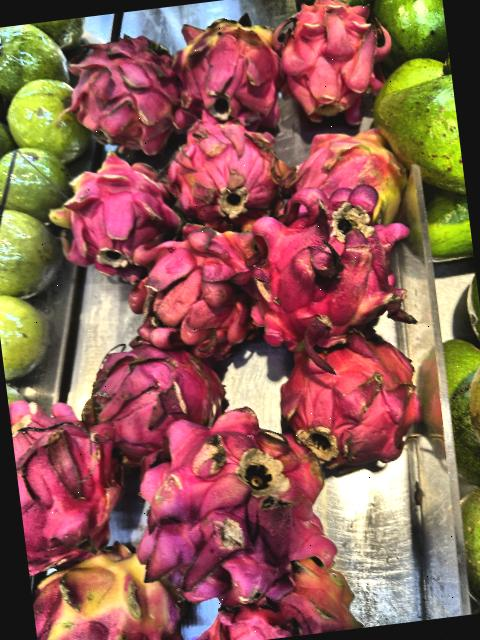buah-naga-belum-matang: (43, 146, 191, 278), (276, 112, 421, 243), (26, 528, 189, 640), (184, 9, 296, 133)
buah-naga-matang: (127, 397, 341, 601), (248, 192, 428, 360), (268, 320, 431, 480), (63, 327, 229, 469), (7, 372, 126, 565), (63, 28, 190, 160), (163, 114, 303, 233), (136, 234, 263, 357), (274, 0, 387, 116)
